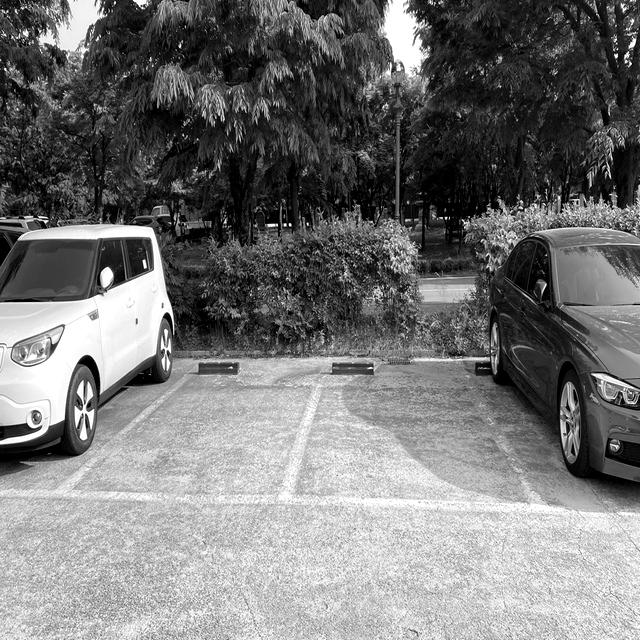vacant: (274, 362, 550, 515), (44, 360, 336, 502)
